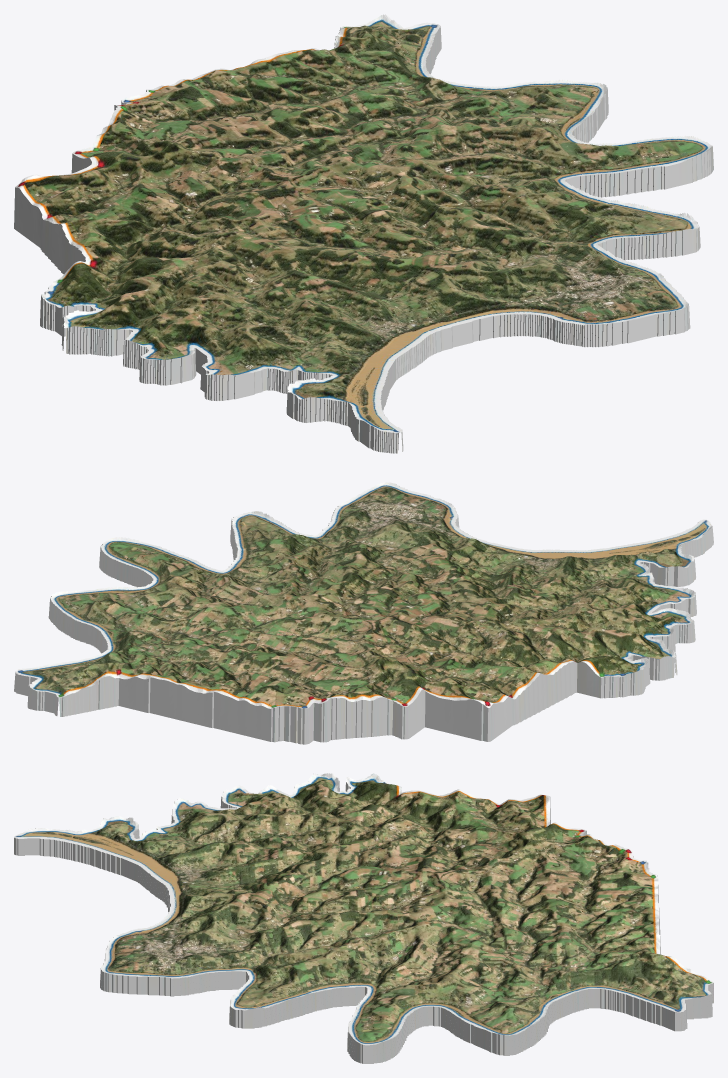
3 renders of one model, top to bottom at view 1: azimuth 30°, elevation 25°; view 2: azimuth 150°, elevation 25°; view 3: azimuth 270°, elevation 25°, orthographic. The views are drawn at different scales.
Size of the model in its own units: 1 by 0.0825 by 1.1.
1 material, 1 textured.
